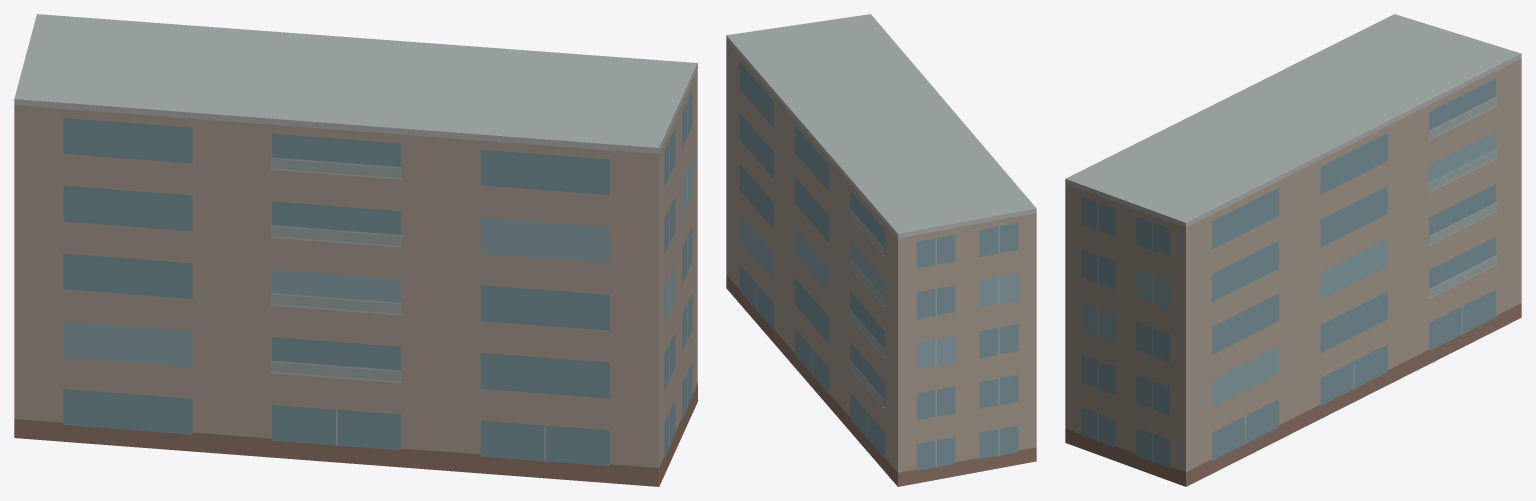
The model's file is survey-upis-32702295.glb.
3 views of the same model, side by side, from view 1: azimuth 30°, elevation 25°; view 2: azimuth 150°, elevation 25°; view 3: azimuth 270°, elevation 25° (orthographic). The views are drawn at different scales.
Parts seen in each view (by area): view 1: survey-upis-32702295.tmp; view 2: survey-upis-32702295.tmp; view 3: survey-upis-32702295.tmp.
Part boxes in pixels (x1,y1,x2,y2): survey-upis-32702295.tmp: (14,14,697,486); survey-upis-32702295.tmp: (726,14,1036,486); survey-upis-32702295.tmp: (1065,14,1521,486).
Size of the model in its own units: 23.26 by 13.7 by 21.47.
